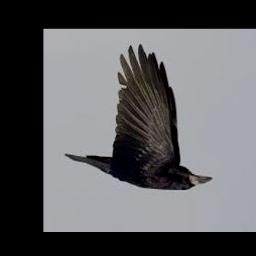Crow: (67, 47, 214, 191)
